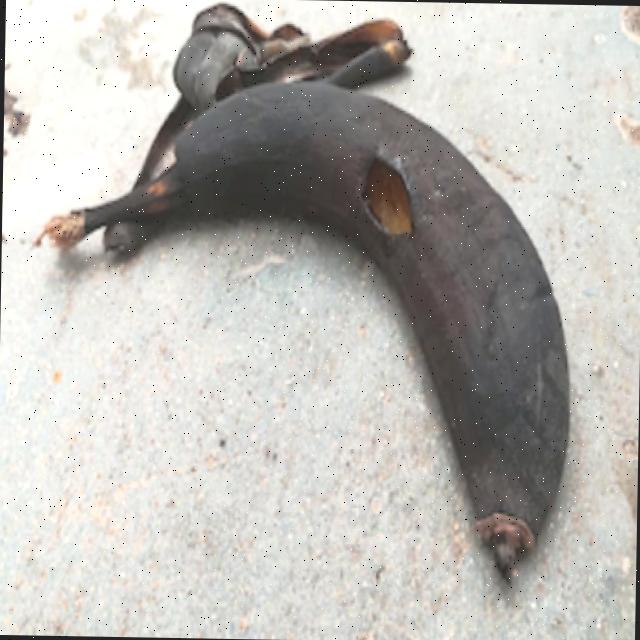Rotten: (33, 0, 585, 605)
